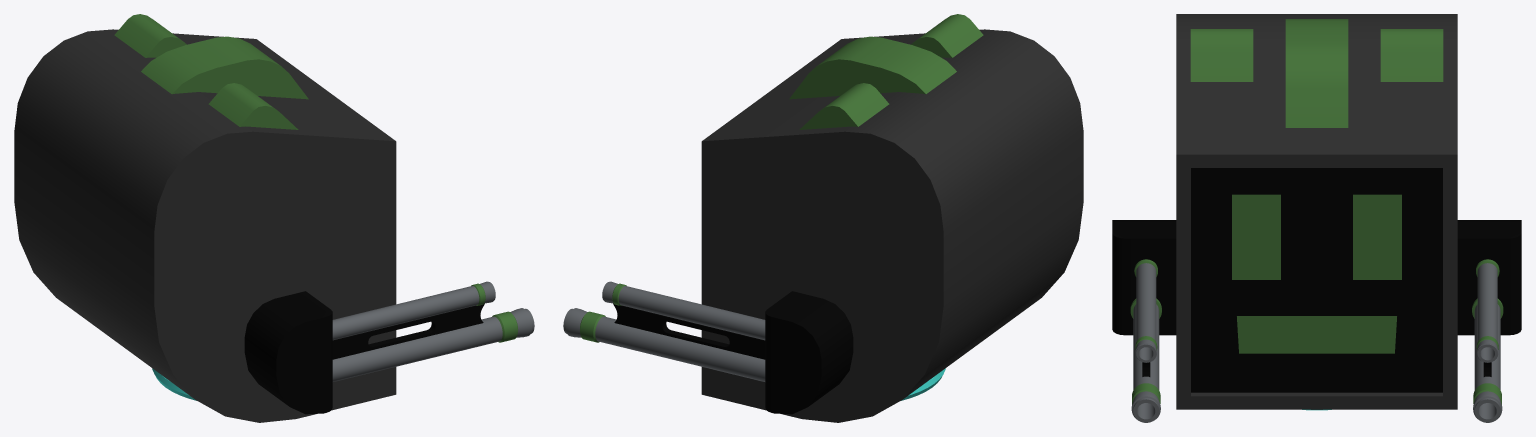
The model's file is floatingGunner.fbx.
3 views of the same model, side by side, from view 1: azimuth 30°, elevation 25°; view 2: azimuth 150°, elevation 25°; view 3: azimuth 270°, elevation 25° (orthographic).
Parts seen in each view (by area): view 1: Gunner; view 2: Gunner; view 3: Gunner.
Boxes of the visible parts, bbox=[...] form: Gunner: bbox=[14, 14, 534, 422]; Gunner: bbox=[563, 14, 1083, 422]; Gunner: bbox=[1112, 14, 1521, 422].
Bounding box in the file's own units: 208 × 181 × 203.
